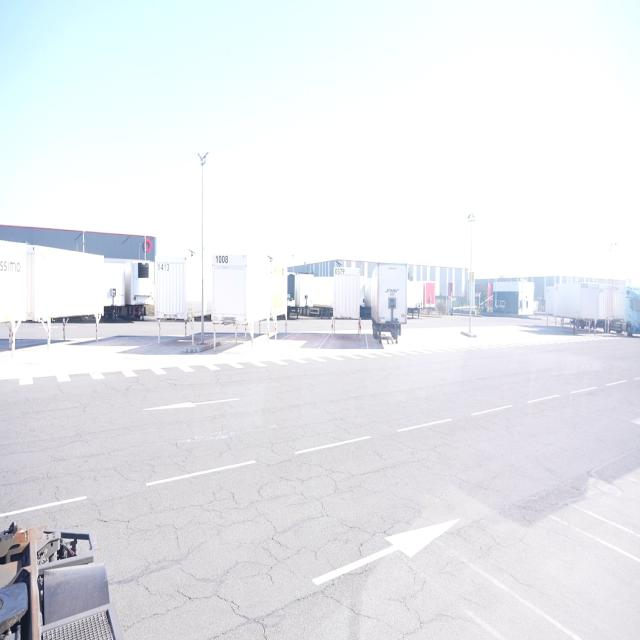Code: (213, 252, 235, 268), (330, 264, 349, 280), (158, 260, 174, 275)
